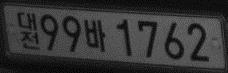1: (115, 19, 134, 57)
2: (186, 22, 210, 62)
6: (163, 21, 184, 60)
7: (136, 20, 157, 57)
9: (61, 14, 81, 52), (40, 13, 59, 51)
대전_V: (16, 11, 41, 50)
바: (83, 18, 106, 53)
